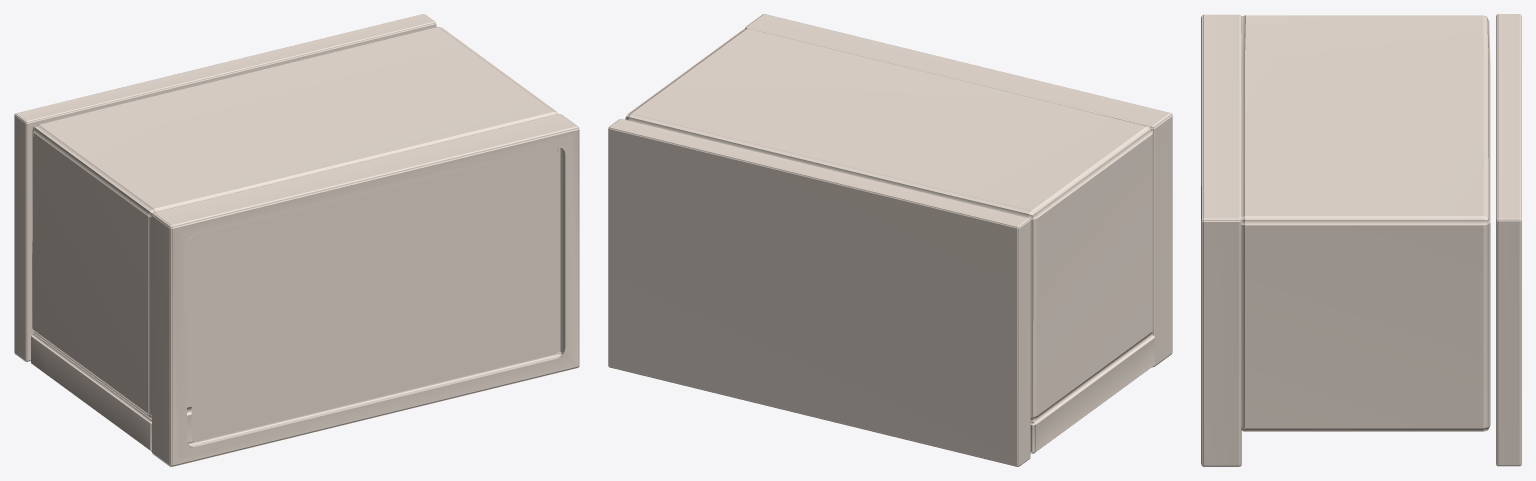
The model's file is BodymeshMicrowaveC6_0_GeomSubset_0.obj.
The picture shows the model from 3 angles, left to right: view 1: azimuth 30°, elevation 25°; view 2: azimuth 150°, elevation 25°; view 3: azimuth 270°, elevation 25°; orthographic projection. The views are drawn at different scales.
Parts seen in each view (by area): view 1: BodymeshMicrowaveC6_0_GeomSubset_0; view 2: BodymeshMicrowaveC6_0_GeomSubset_0; view 3: BodymeshMicrowaveC6_0_GeomSubset_0.
Part boxes in pixels (box(x1,y1,x2,y2)): BodymeshMicrowaveC6_0_GeomSubset_0: box(14, 14, 579, 466); BodymeshMicrowaveC6_0_GeomSubset_0: box(608, 14, 1172, 466); BodymeshMicrowaveC6_0_GeomSubset_0: box(1201, 14, 1521, 466).
Bounding box in the file's own units: 0.6053 × 0.3406 × 0.3969.
